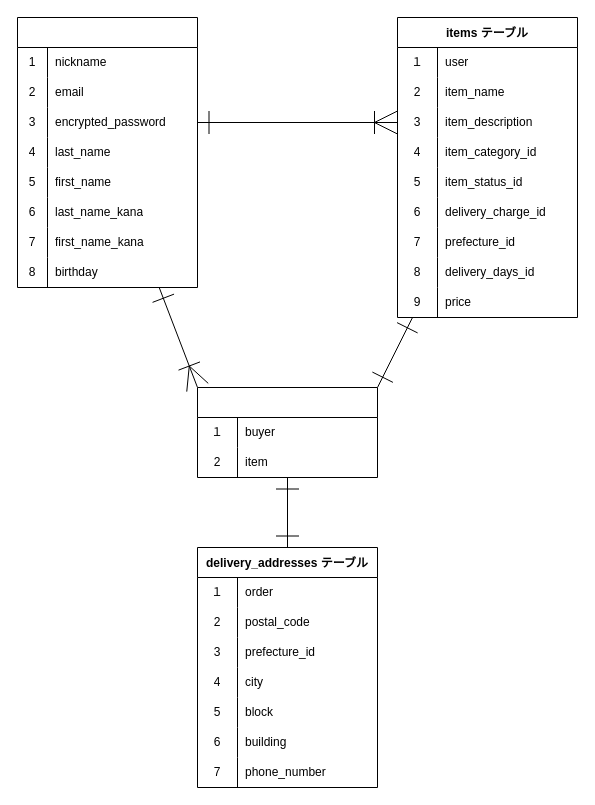
Some shapes in this 595 by 805 pixel diagram are drawn without their labels. Each missing label, with the box of its shape:
oders テーブル: (196, 386, 378, 478)
users テーブル: (16, 16, 198, 288)
